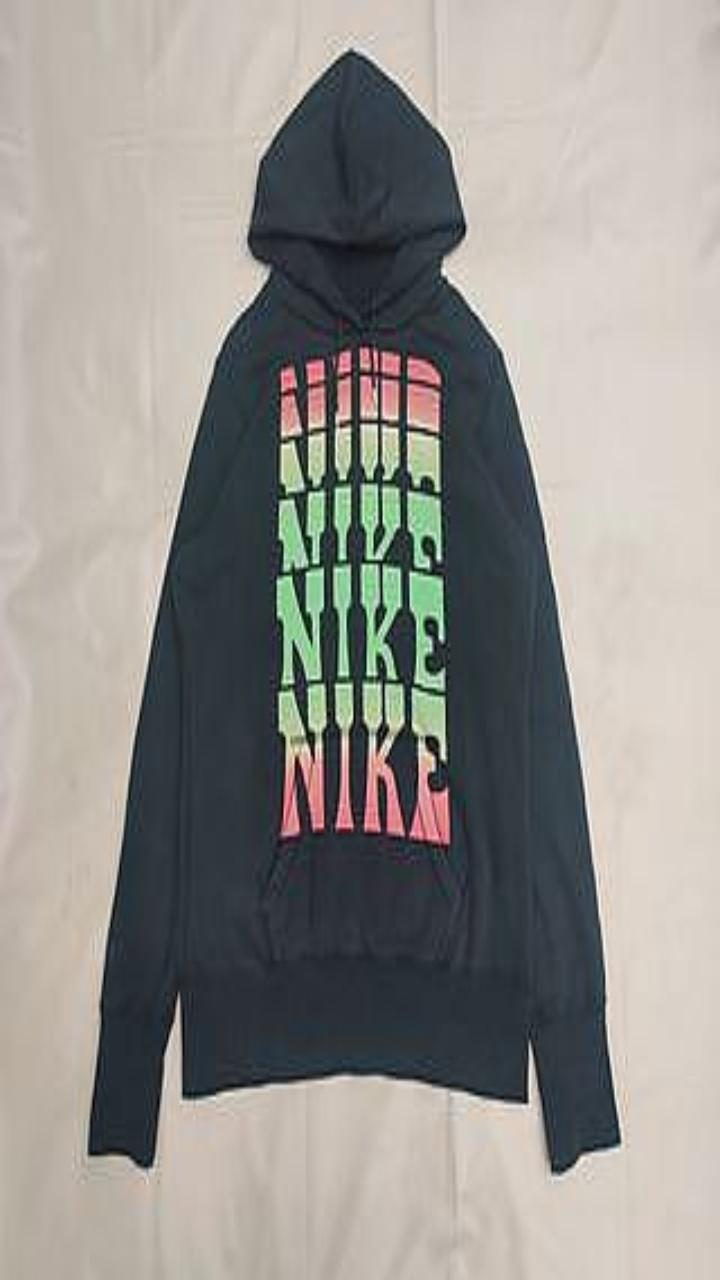Hoodie: (89, 49, 619, 1171)
